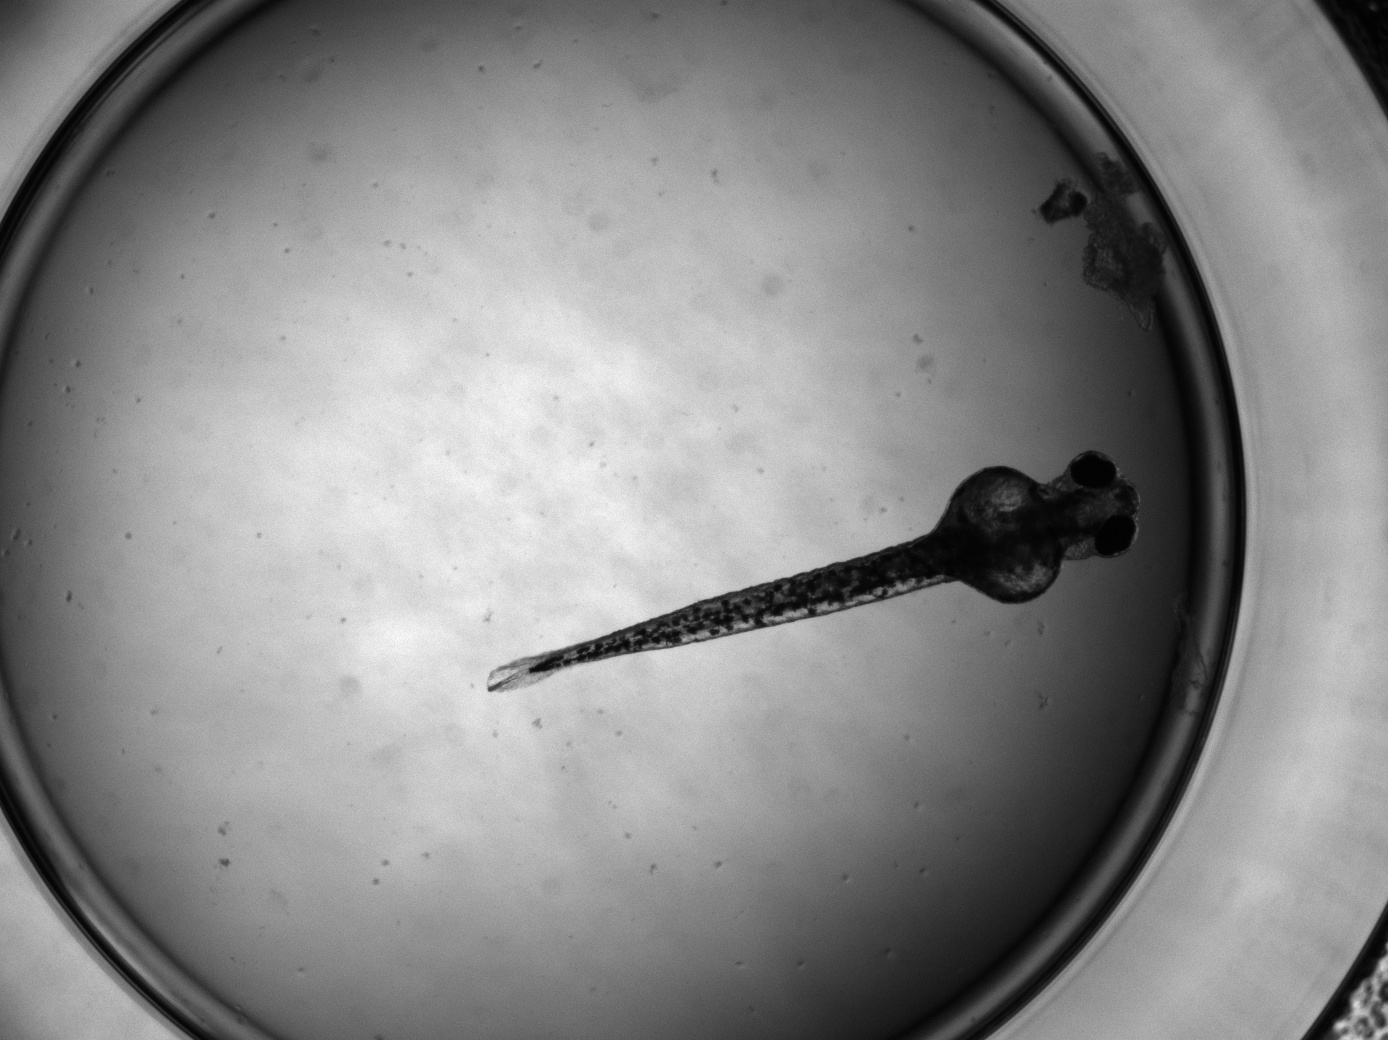embryo: (487, 448, 1141, 692)
eye: (1070, 450, 1118, 491), (1095, 515, 1137, 557)
yolksac: (940, 466, 1061, 604)
